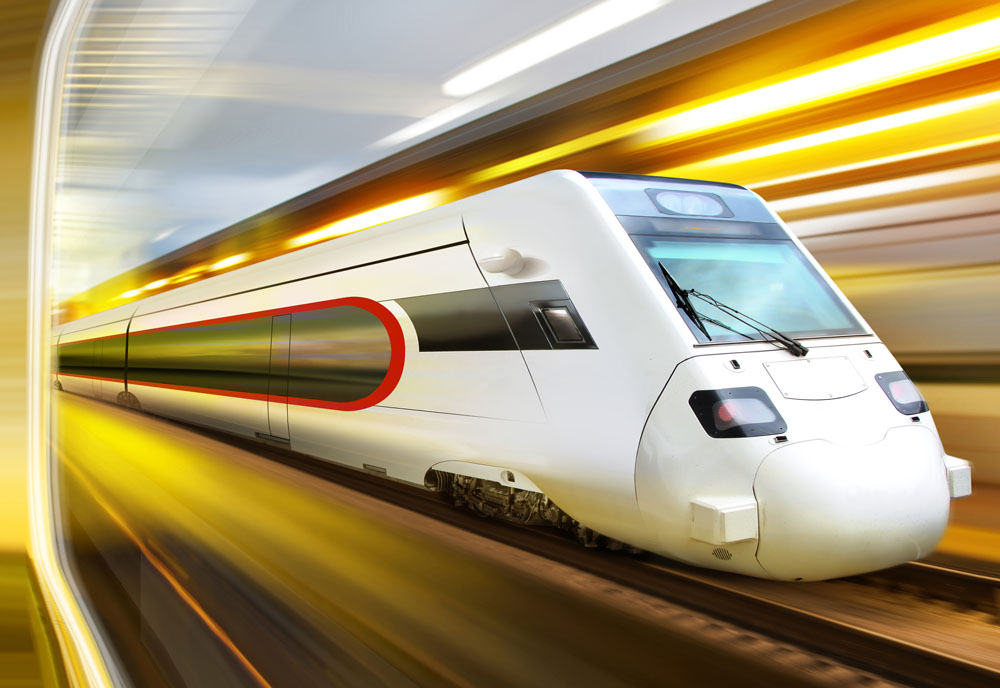hsrw: (56, 165, 973, 583)
